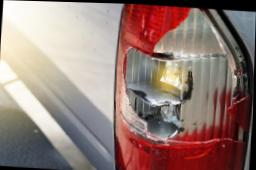Light: (111, 3, 254, 170)
